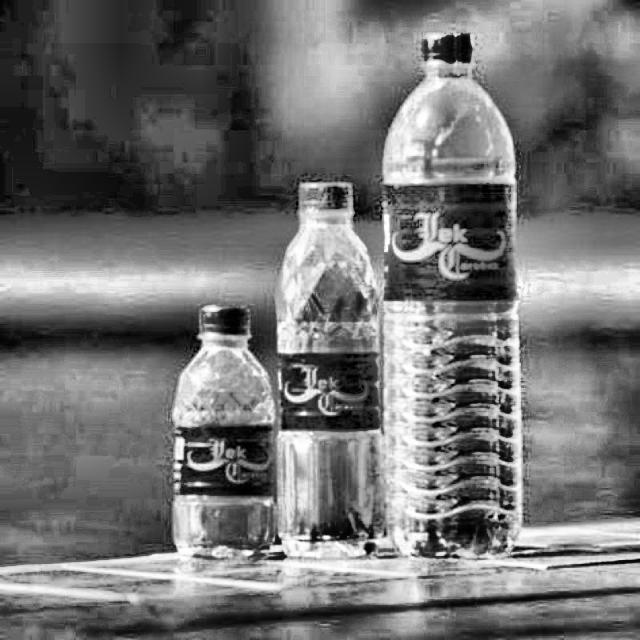waterbottle: (367, 22, 531, 570), (266, 170, 396, 567), (166, 296, 283, 580)
